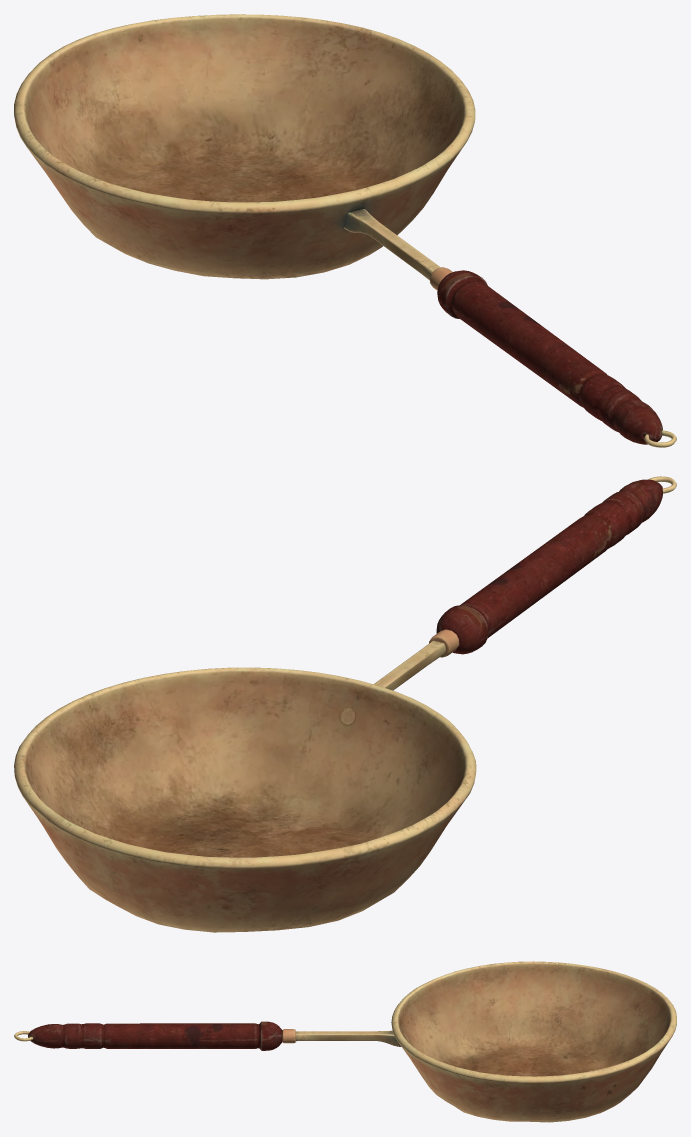
File: brass_pan_01.glb
3 renders of one model, top to bottom at view 1: azimuth 30°, elevation 25°; view 2: azimuth 150°, elevation 25°; view 3: azimuth 270°, elevation 25°, orthographic. The views are drawn at different scales.
Visible parts, largest first — view 1: brass_pan_01; view 2: brass_pan_01; view 3: brass_pan_01.
Boxes of the visible parts, <box> form: brass_pan_01: <box>14,14,676,447</box>; brass_pan_01: <box>14,476,676,932</box>; brass_pan_01: <box>14,961,676,1122</box>.
Size of the model in its own units: 0.1913 by 0.0525 by 0.4497.
1 material, 1 textured.
